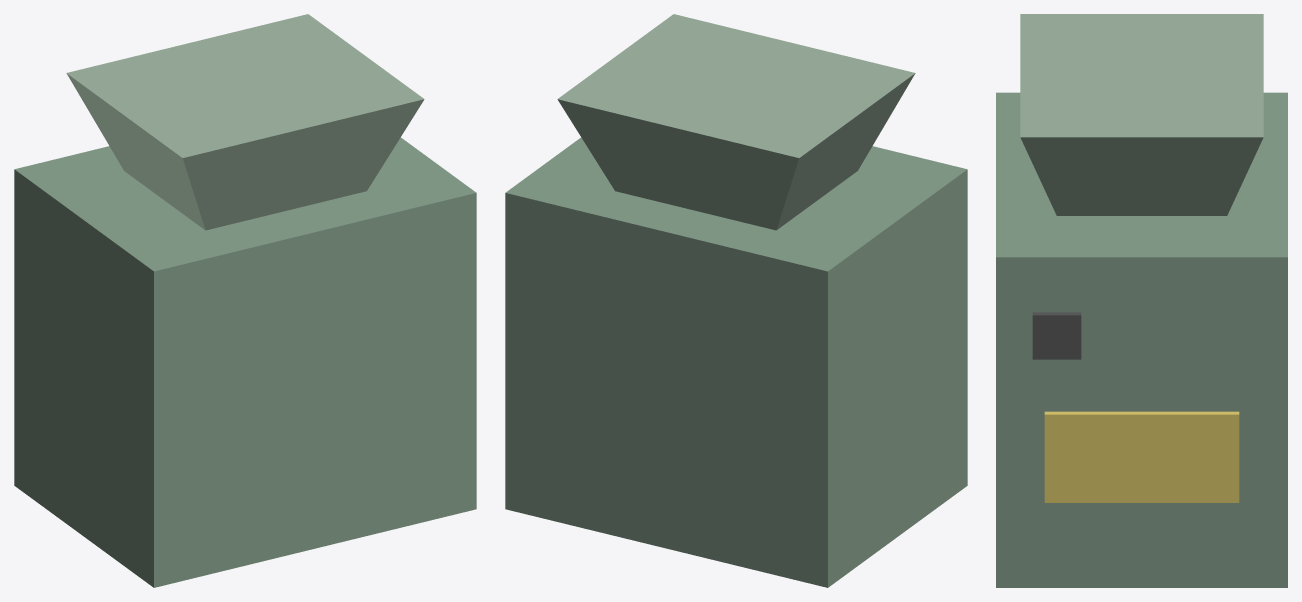
File: deploy_recycler.glb
The picture shows the model from 3 angles, left to right: view 1: azimuth 30°, elevation 25°; view 2: azimuth 150°, elevation 25°; view 3: azimuth 270°, elevation 25°; orthographic projection. The views are drawn at different scales.
Parts seen in each view (by area): view 1: deploy_recycler; view 2: deploy_recycler; view 3: deploy_recycler.
Boxes of the visible parts, x1,y1,x2,y2 form: deploy_recycler: (14,14,476,587); deploy_recycler: (505,14,967,587); deploy_recycler: (996,14,1287,587).
Size of the model in its own units: 1.63 by 1.95 by 1.2.
